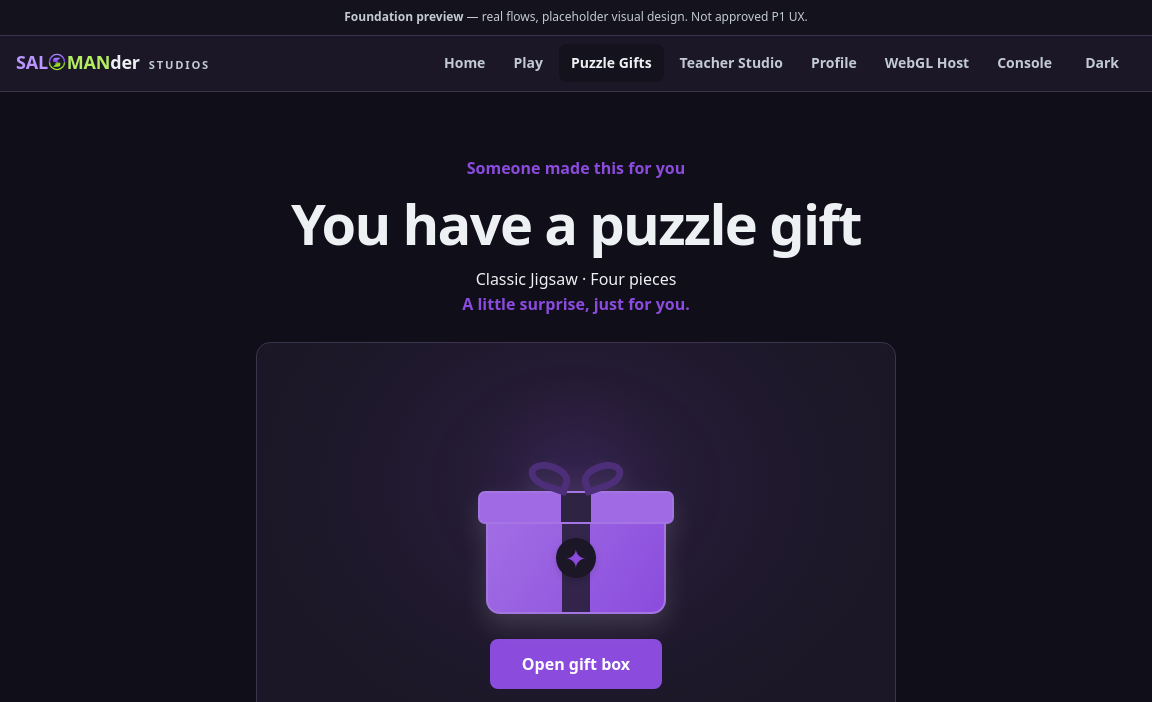
Test: shows a recoverable image error and does not mount the game
Step 1. Click the button "Open gift box" → (576, 664), box [490,639,662,689]
(page scrolled)
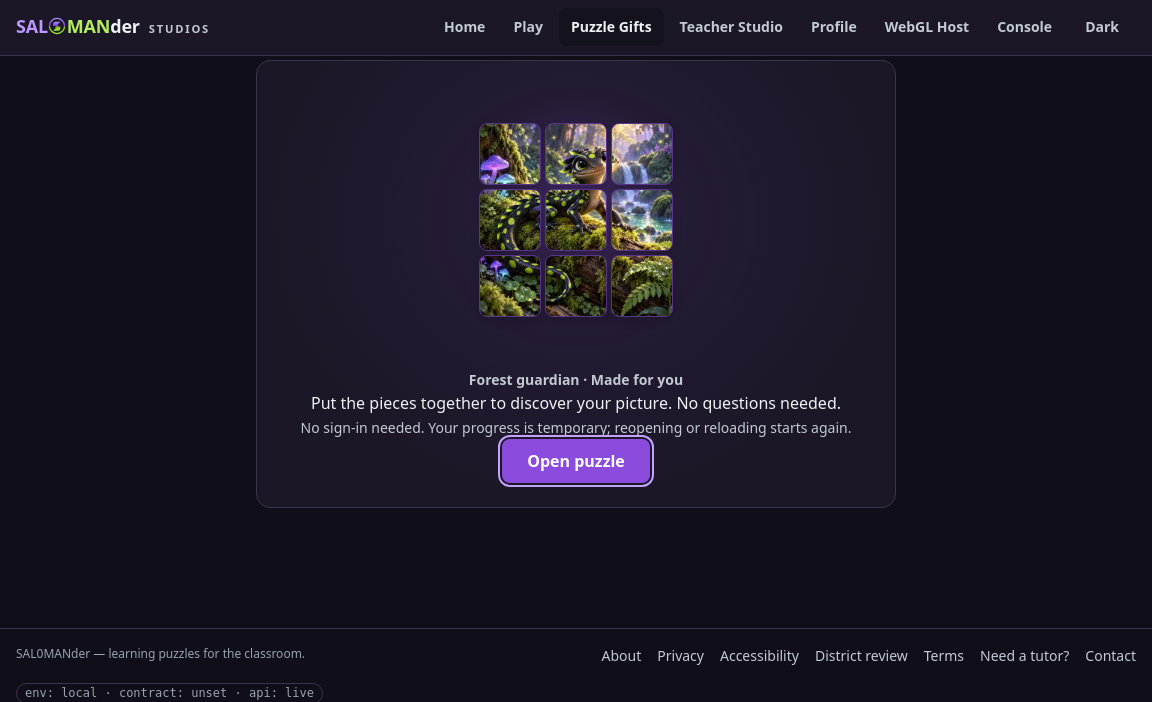
Step 2. Click the button "Open puzzle" → (576, 461), box [502,439,650,483]
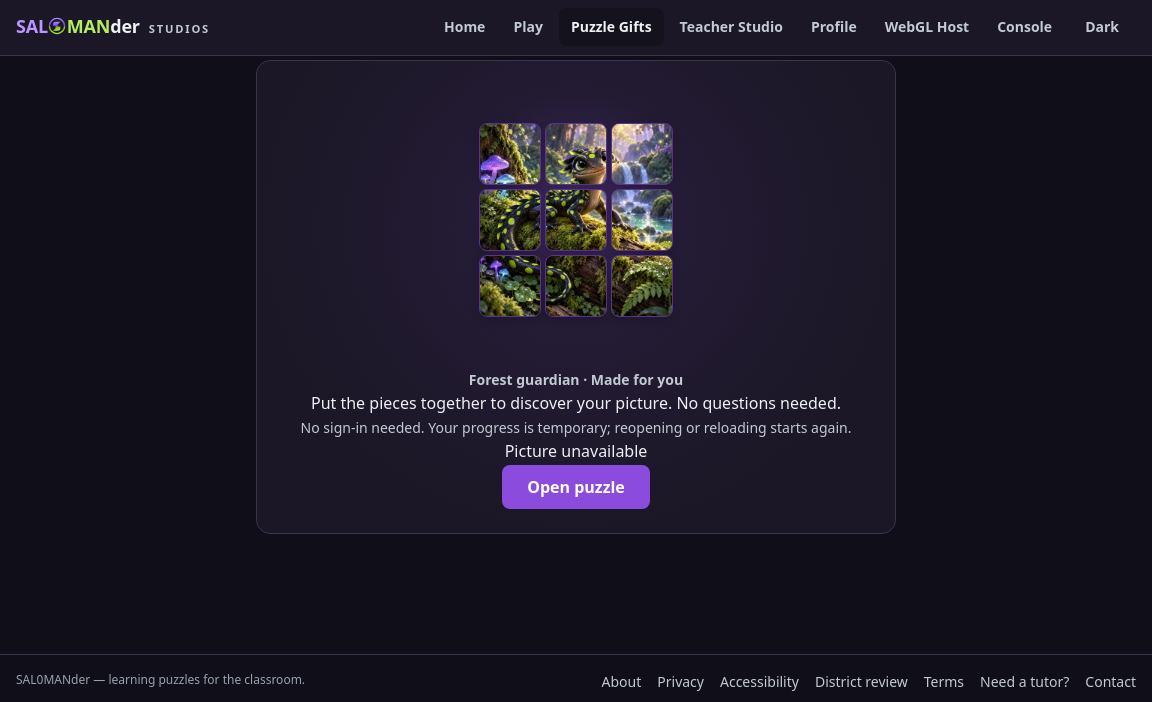
Now the button "Open puzzle" is enabled, box [502,465,650,509]
Now the message reads "Picture unavailable", box [505,440,647,462]
